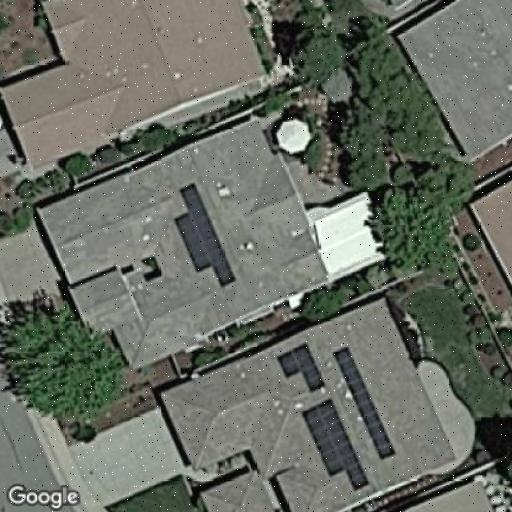solar-panel: (330, 344, 398, 460), (300, 394, 370, 492), (172, 182, 236, 288), (274, 339, 326, 395)
